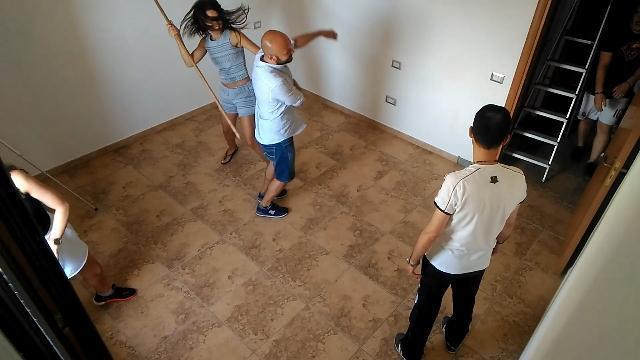non-violence: (396, 106, 526, 360), (1, 156, 138, 306), (571, 26, 640, 172)
violence: (154, 1, 338, 220)
